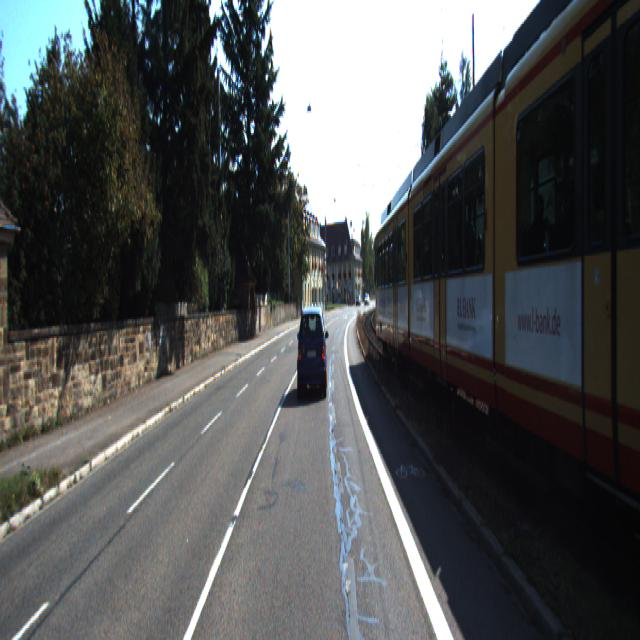Car: (492, 0, 640, 611), (408, 49, 576, 470), (374, 171, 450, 387), (298, 305, 329, 403)
